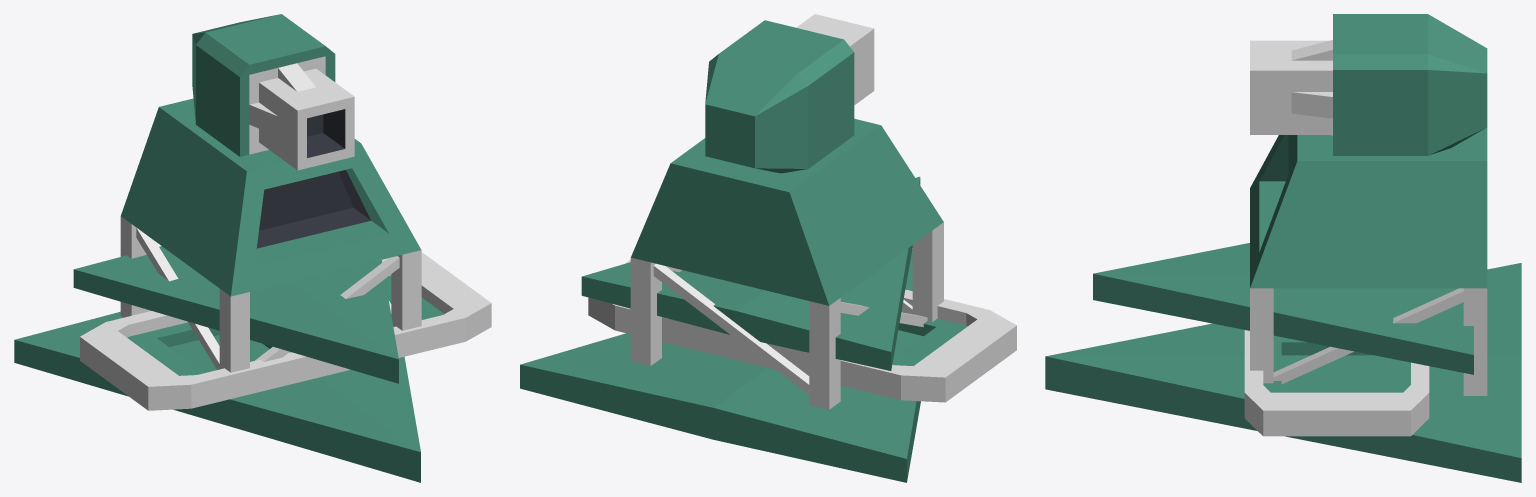
The model's file is flying_00_04.obj.
The picture shows the model from 3 angles, left to right: view 1: azimuth 30°, elevation 25°; view 2: azimuth 150°, elevation 25°; view 3: azimuth 270°, elevation 25°; orthographic projection. The views are drawn at different scales.
Visible parts, largest first — view 1: mergedBlocks; view 2: mergedBlocks; view 3: mergedBlocks.
Boxes of the visible parts, x1=… form: mergedBlocks: x1=14, y1=14, x2=491, y2=482; mergedBlocks: x1=520, y1=14, x2=1016, y2=482; mergedBlocks: x1=1045, y1=14, x2=1521, y2=482.
Bounding box in the file's own units: 1.95 × 1.65 × 2.01.
